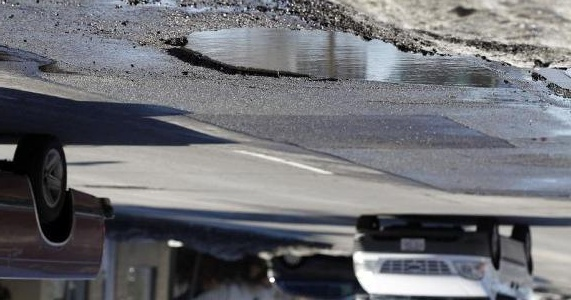pothole: (161, 29, 518, 91), (36, 61, 77, 76)
